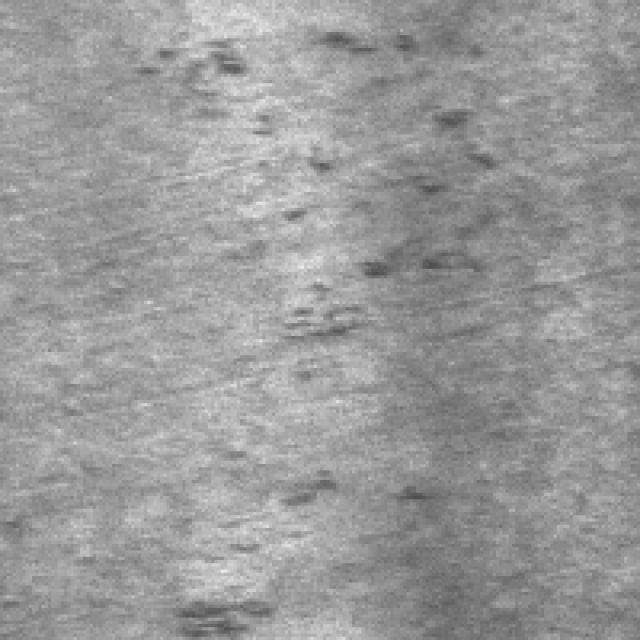rolled-in_scale: (131, 29, 493, 339), (167, 461, 426, 637)
